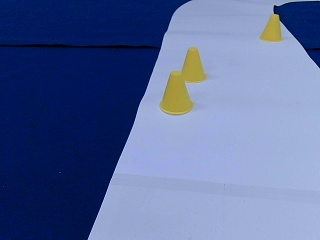cone: (161, 73, 193, 113), (180, 48, 206, 83), (260, 15, 282, 41)
